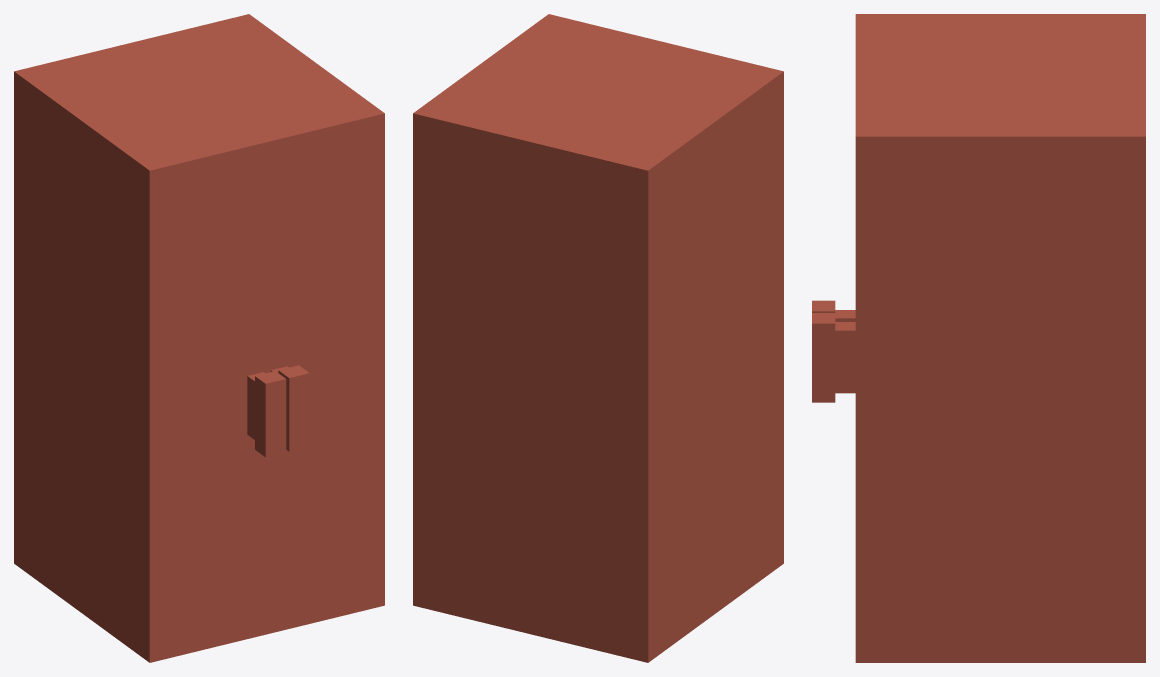
File: Wardrobe.fbx
3 renders of one model, left to right at view 1: azimuth 30°, elevation 25°; view 2: azimuth 150°, elevation 25°; view 3: azimuth 270°, elevation 25°, orthographic. The views are drawn at different scales.
Parts seen in each view (by area): view 1: Wardrobe; view 2: Wardrobe; view 3: Wardrobe.
Part boxes in pixels (x1,y1,x2,y2): Wardrobe: [14, 14, 384, 662]; Wardrobe: [413, 14, 783, 662]; Wardrobe: [812, 14, 1145, 662].
Bounding box in the file's own units: 100 × 200 × 115.
